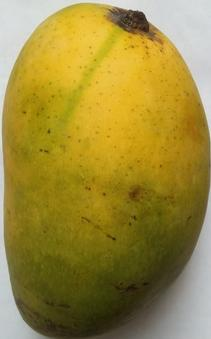PartiallyRipe: (0, 1, 211, 339)
